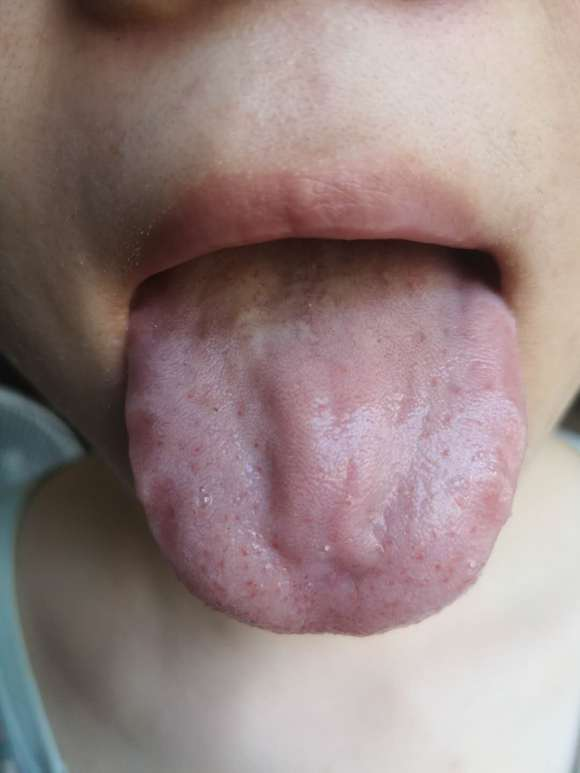hongdianshe: (270, 538, 280, 553), (249, 439, 260, 452)
pangdashe: (125, 232, 527, 637)
